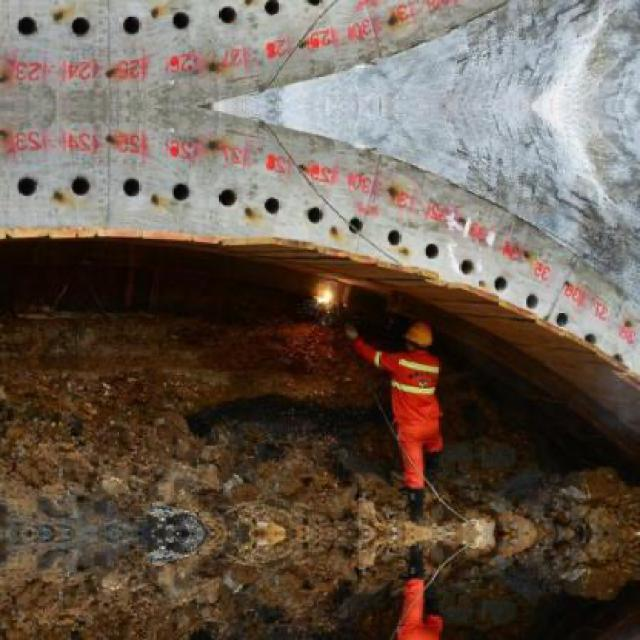con casco: (382, 297, 459, 386)
